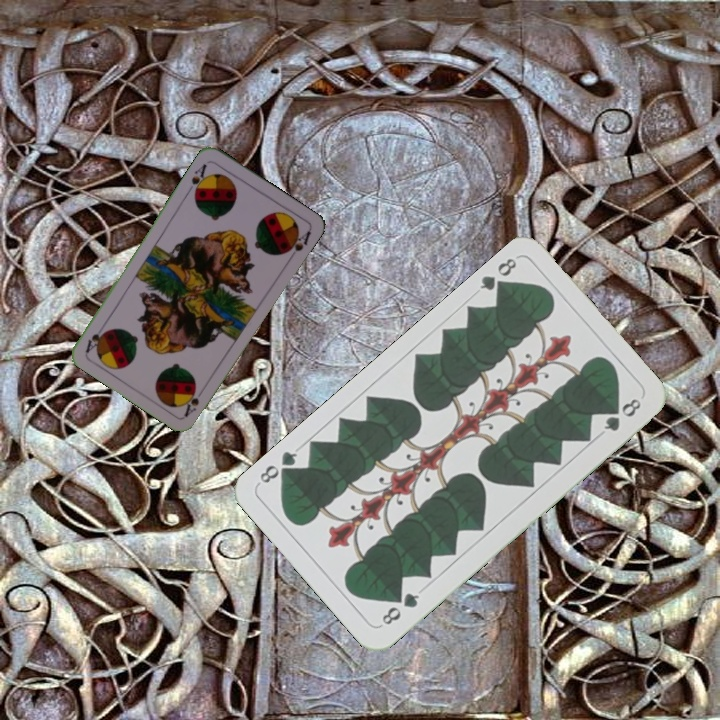G8: (475, 253, 520, 298), (377, 588, 422, 628)
SA: (180, 383, 208, 419), (187, 159, 211, 198)
